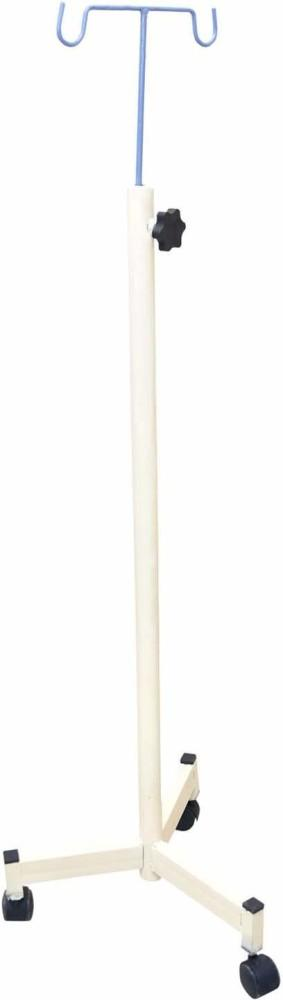Saline Stand: (1, 0, 276, 999)
